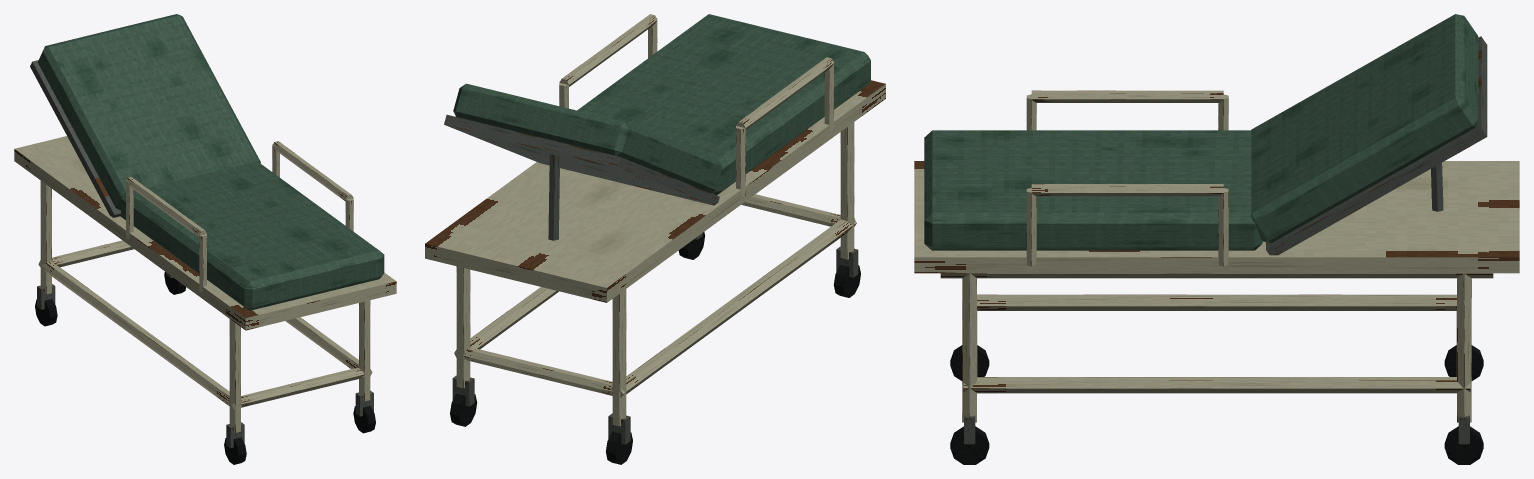
File: exam_bed.glb
3 renders of one model, left to right at view 1: azimuth 30°, elevation 25°; view 2: azimuth 150°, elevation 25°; view 3: azimuth 270°, elevation 25°, orthographic. The views are drawn at different scales.
Parts seen in each view (by area): view 1: 01_Examination_Bed_Treatment_|_Shared_Pixel_Atlas.001, Backrest_Hinge_Treatment_|_Shared_Pixel_Atlas.001; view 2: 01_Examination_Bed_Treatment_|_Shared_Pixel_Atlas.001, Backrest_Hinge_Treatment_|_Shared_Pixel_Atlas.001; view 3: 01_Examination_Bed_Treatment_|_Shared_Pixel_Atlas.001, Backrest_Hinge_Treatment_|_Shared_Pixel_Atlas.001.
Part boxes in pixels (x1,y1,x2,y2): 01_Examination_Bed_Treatment_|_Shared_Pixel_Atlas.001: [14, 136, 396, 464]; Backrest_Hinge_Treatment_|_Shared_Pixel_Atlas.001: [30, 14, 260, 217]; 01_Examination_Bed_Treatment_|_Shared_Pixel_Atlas.001: [425, 14, 885, 464]; Backrest_Hinge_Treatment_|_Shared_Pixel_Atlas.001: [444, 83, 722, 205]; 01_Examination_Bed_Treatment_|_Shared_Pixel_Atlas.001: [914, 90, 1519, 464]; Backrest_Hinge_Treatment_|_Shared_Pixel_Atlas.001: [1251, 14, 1487, 255].
Size of the model in its own units: 0.718 by 1.24 by 1.86.
Materials: 1 (1 with a texture image).
